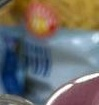1d: (22, 40, 53, 78)
